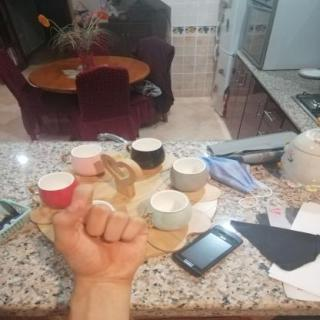FAA: (42, 175, 158, 291)
